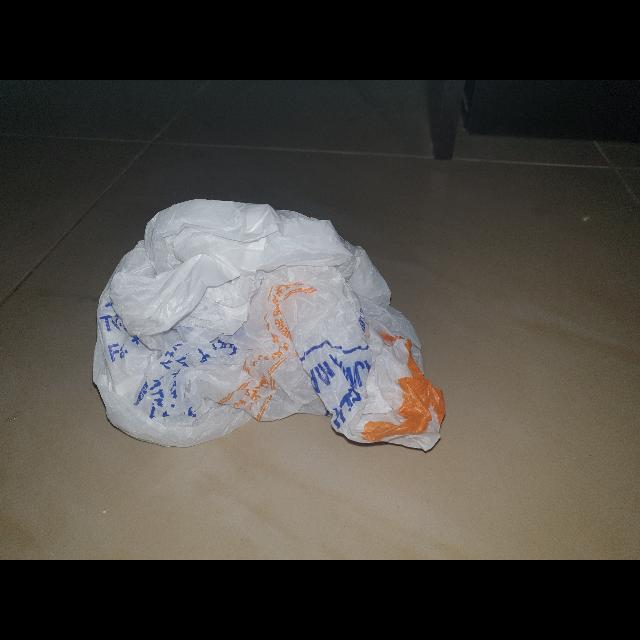plastic_bag: (78, 179, 456, 466)
